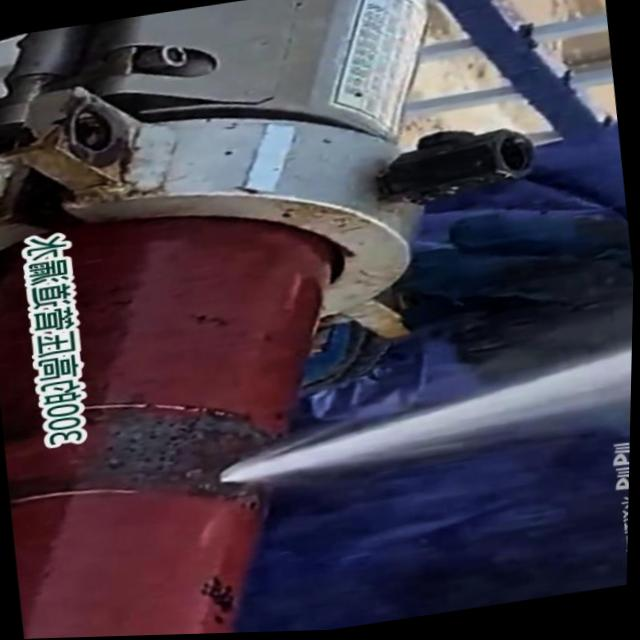leak: (219, 344, 632, 483)
